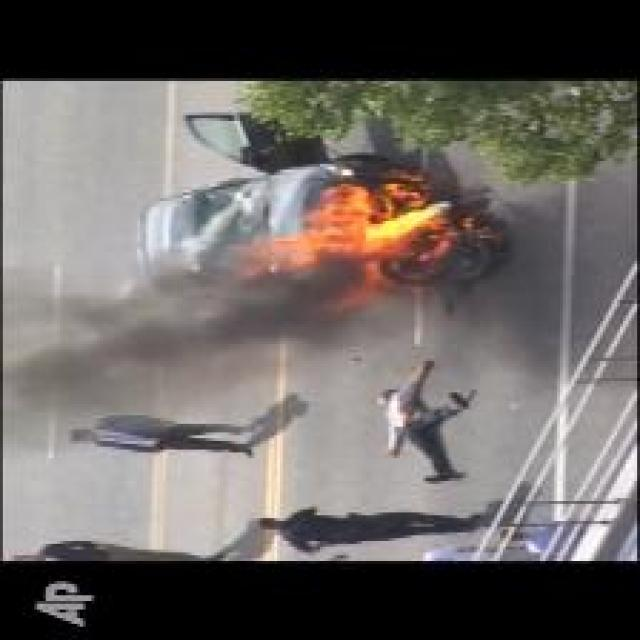Fire: (239, 174, 452, 314)
